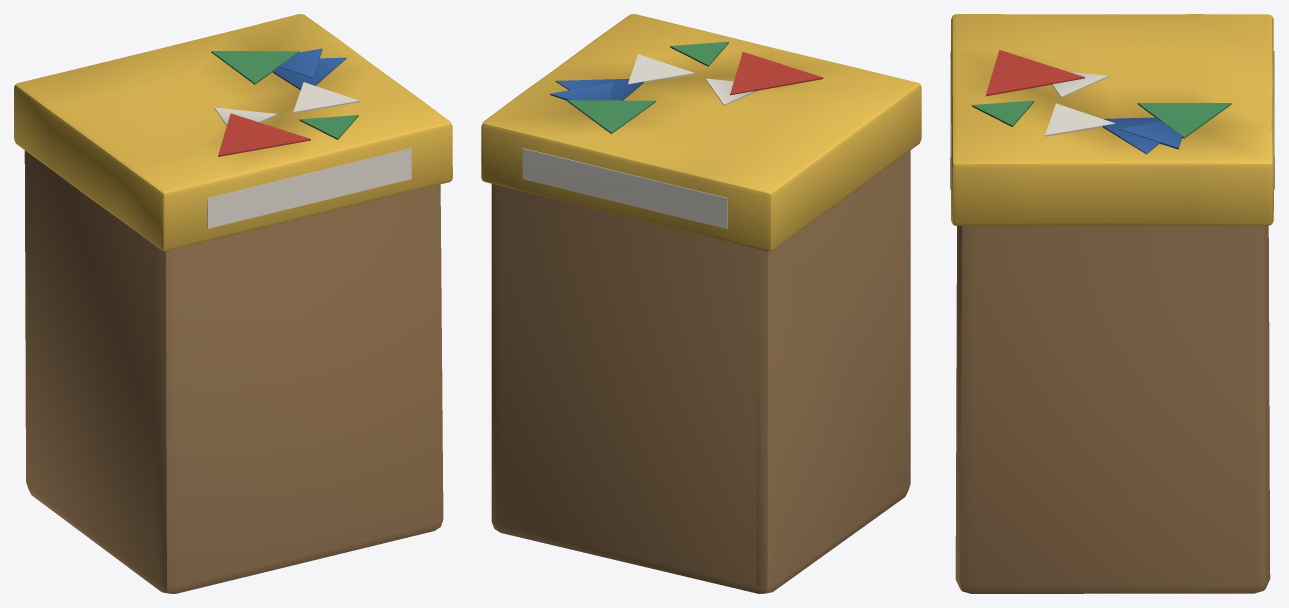
Rendered from den_game_box_c.glb.
3 renders of one model, left to right at view 1: azimuth 30°, elevation 25°; view 2: azimuth 150°, elevation 25°; view 3: azimuth 270°, elevation 25°, orthographic. The views are drawn at different scales.
Visible parts, largest first — view 1: den_game_box_c; view 2: den_game_box_c; view 3: den_game_box_c.
Boxes of the visible parts, x1,y1,x2,y2 form: den_game_box_c: (14, 14, 452, 593); den_game_box_c: (481, 14, 921, 593); den_game_box_c: (950, 14, 1274, 593).
Size of the model in its own units: 10.02 by 13.59 by 9.06.
